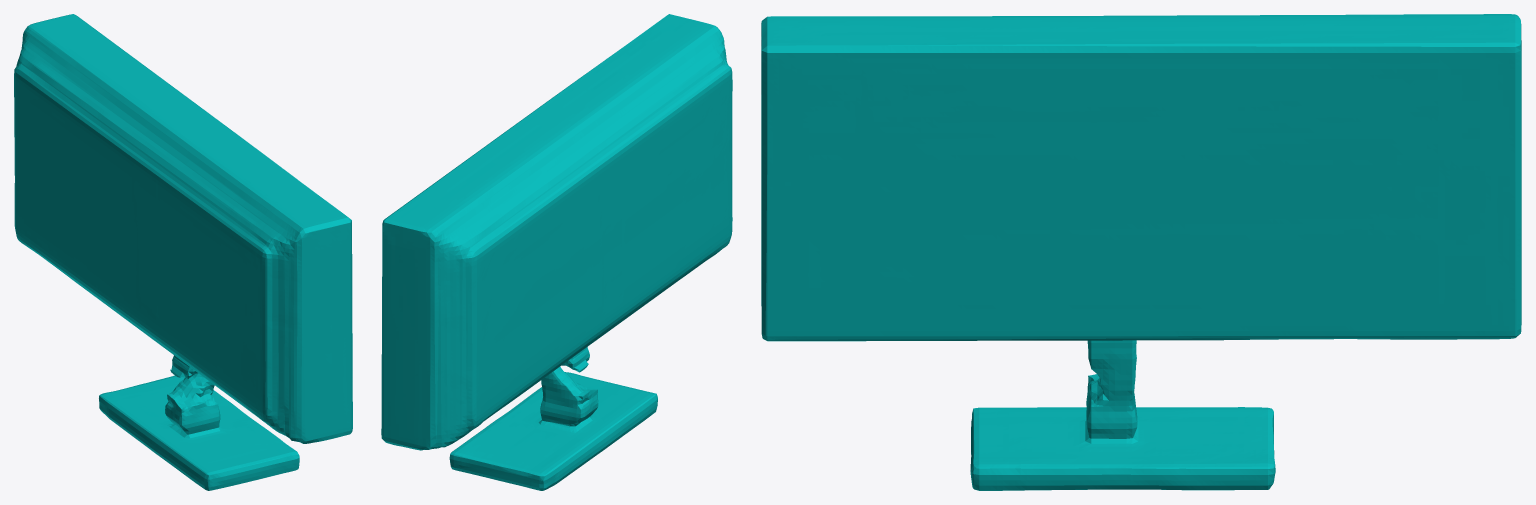
3 views of the same model, side by side, from view 1: azimuth 30°, elevation 25°; view 2: azimuth 150°, elevation 25°; view 3: azimuth 270°, elevation 25° (orthographic). The views are drawn at different scales.
Size of the model in its own units: 0.2139 by 0.6336 by 1.01.
